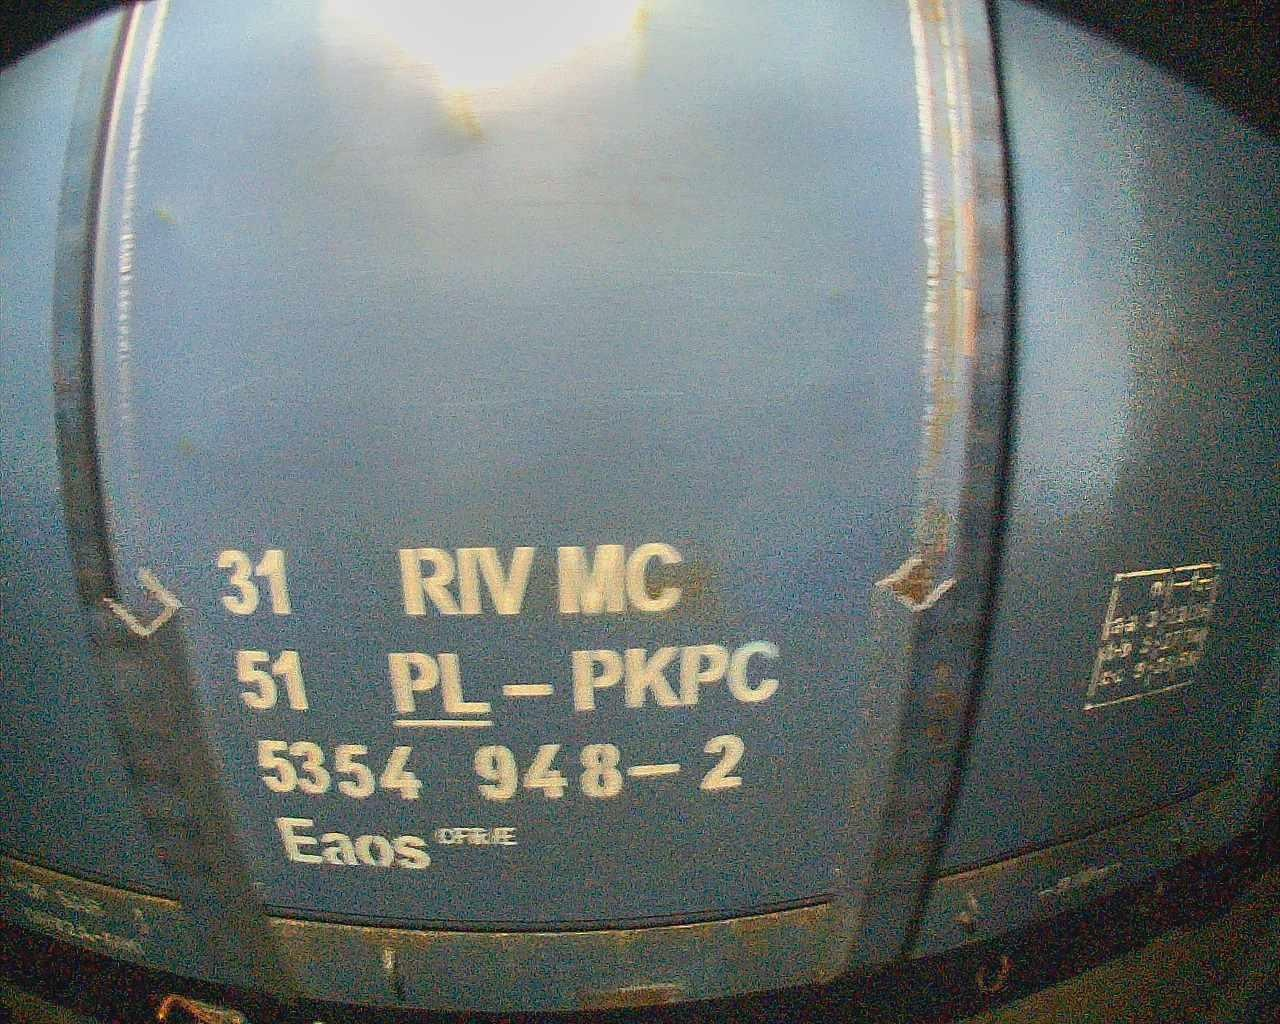UIC: (207, 540, 784, 872)
